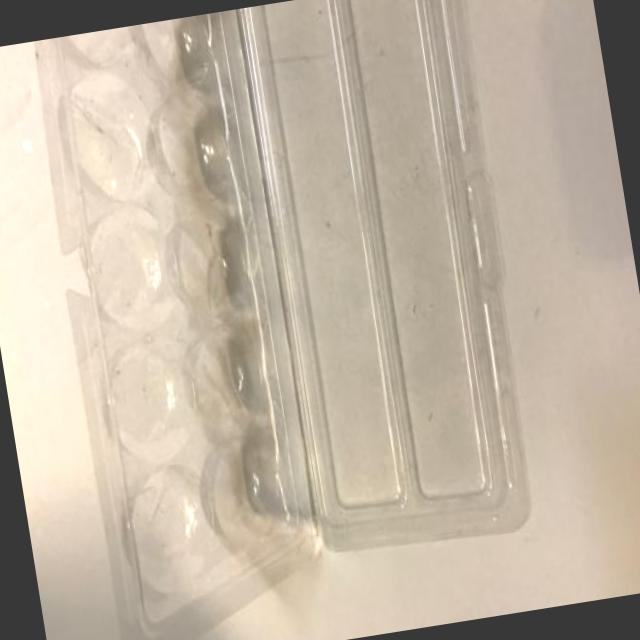Trash: (23, 0, 574, 640)
